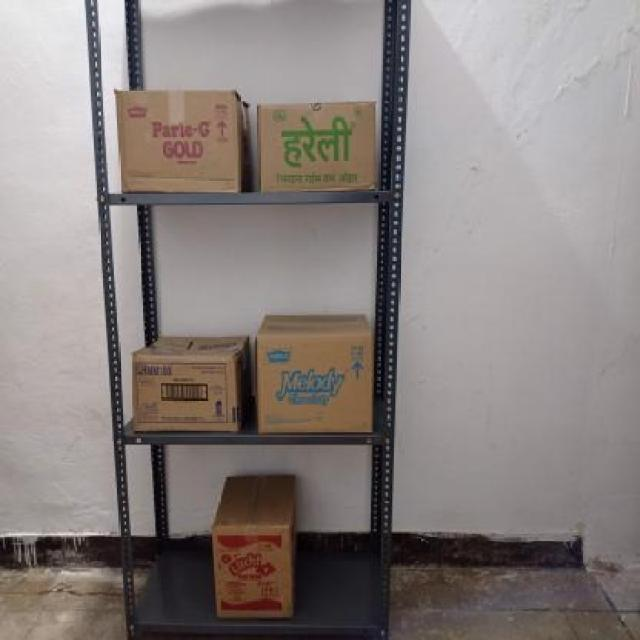box: (112, 88, 241, 192), (256, 335, 372, 437), (254, 101, 378, 192), (130, 357, 236, 435), (214, 526, 294, 623)
